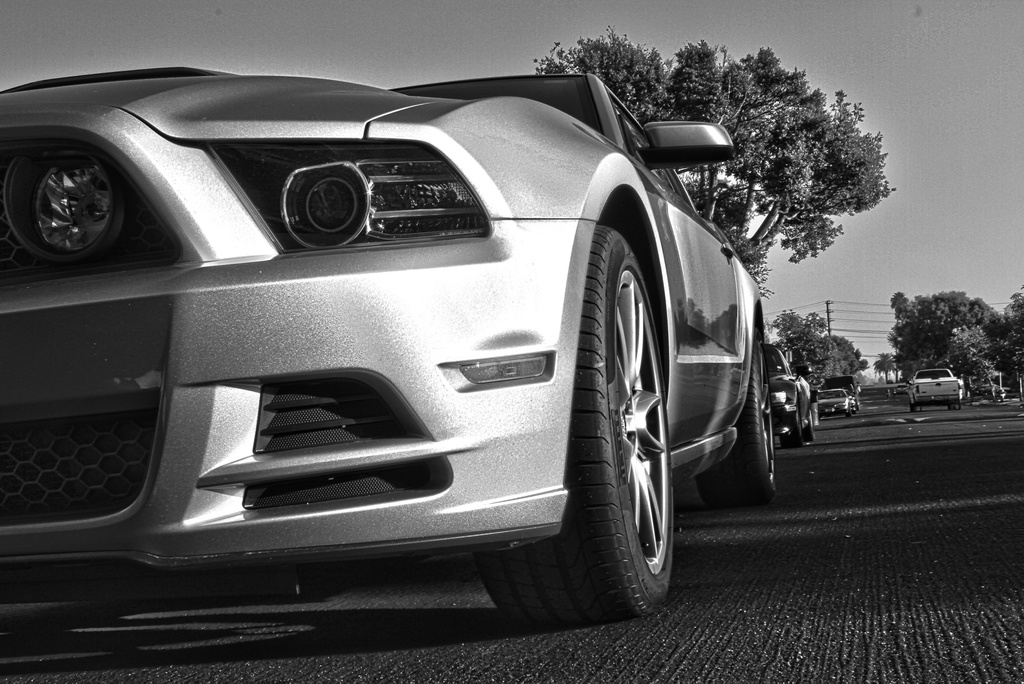Car: (0, 72, 858, 623), (895, 383, 906, 392)
